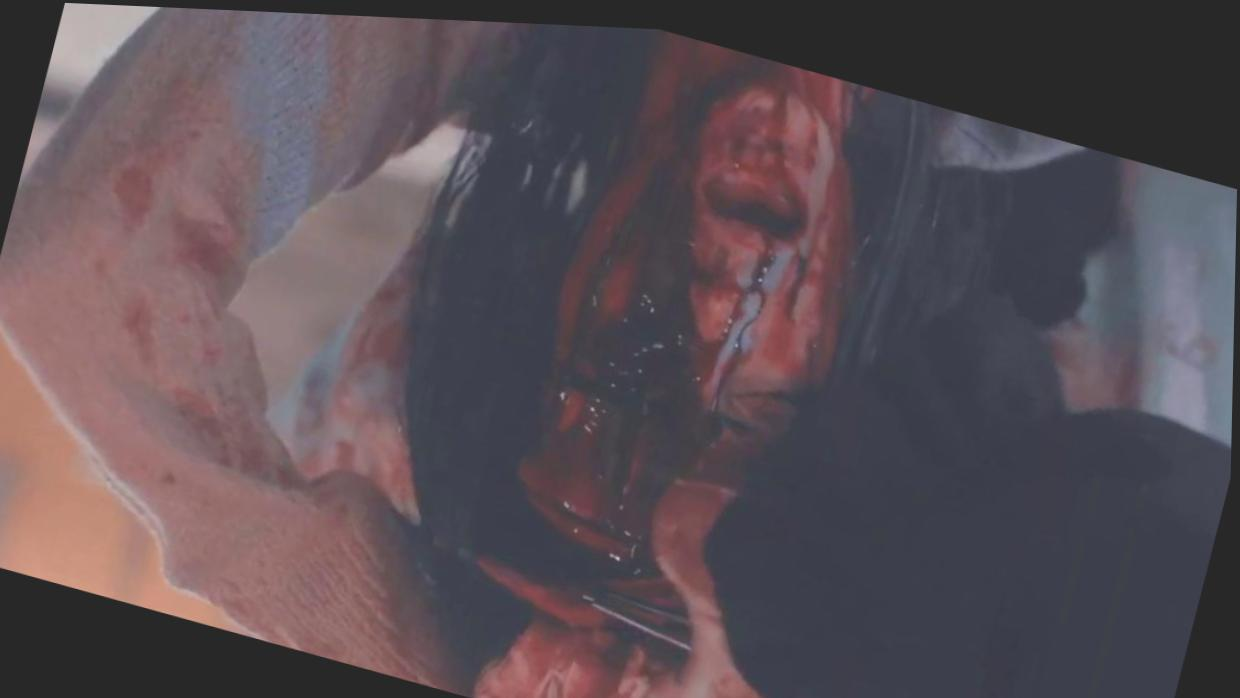Fire: (0, 6, 885, 698)
